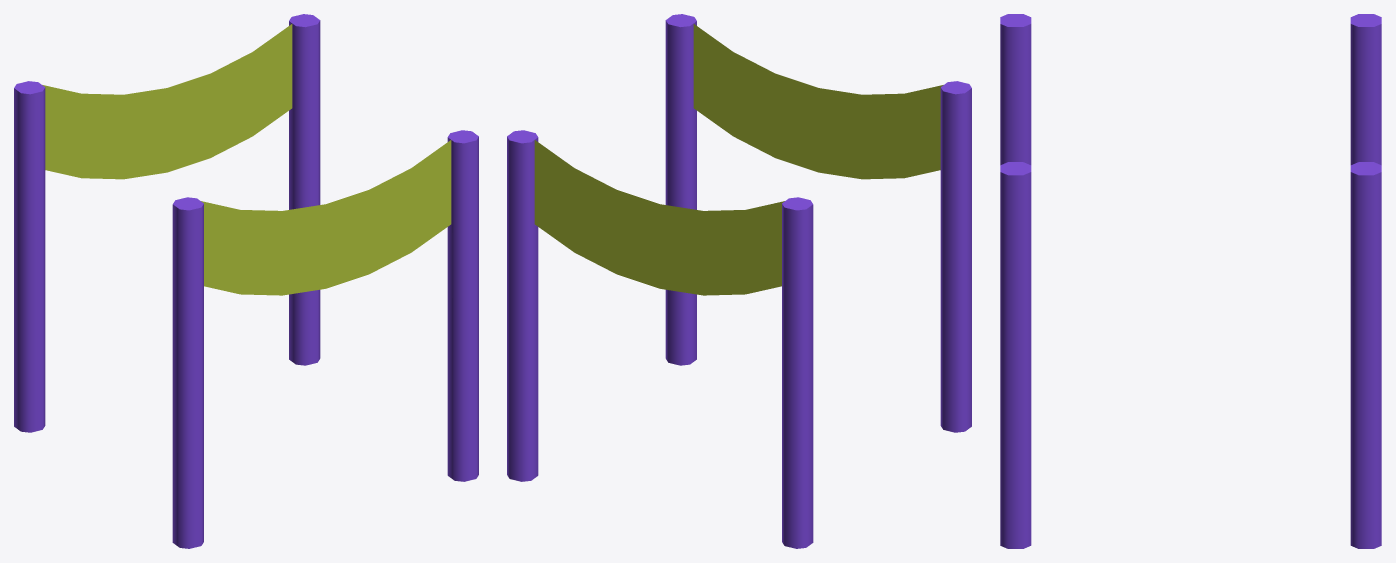
File: banner_hanging_double_high.dae
3 renders of one model, left to right at view 1: azimuth 30°, elevation 25°; view 2: azimuth 150°, elevation 25°; view 3: azimuth 270°, elevation 25°, orthographic. The views are drawn at different scales.
Parts seen in each view (by area): view 1: banner_hanging_double_high; view 2: banner_hanging_double_high; view 3: banner_hanging_double_high.
Boxes of the visible parts, x1,y1,x2,y2 form: banner_hanging_double_high: [14, 14, 478, 548]; banner_hanging_double_high: [507, 14, 971, 548]; banner_hanging_double_high: [1000, 14, 1381, 548].
Bounding box in the file's own units: 0.925 × 0.925 × 1.
